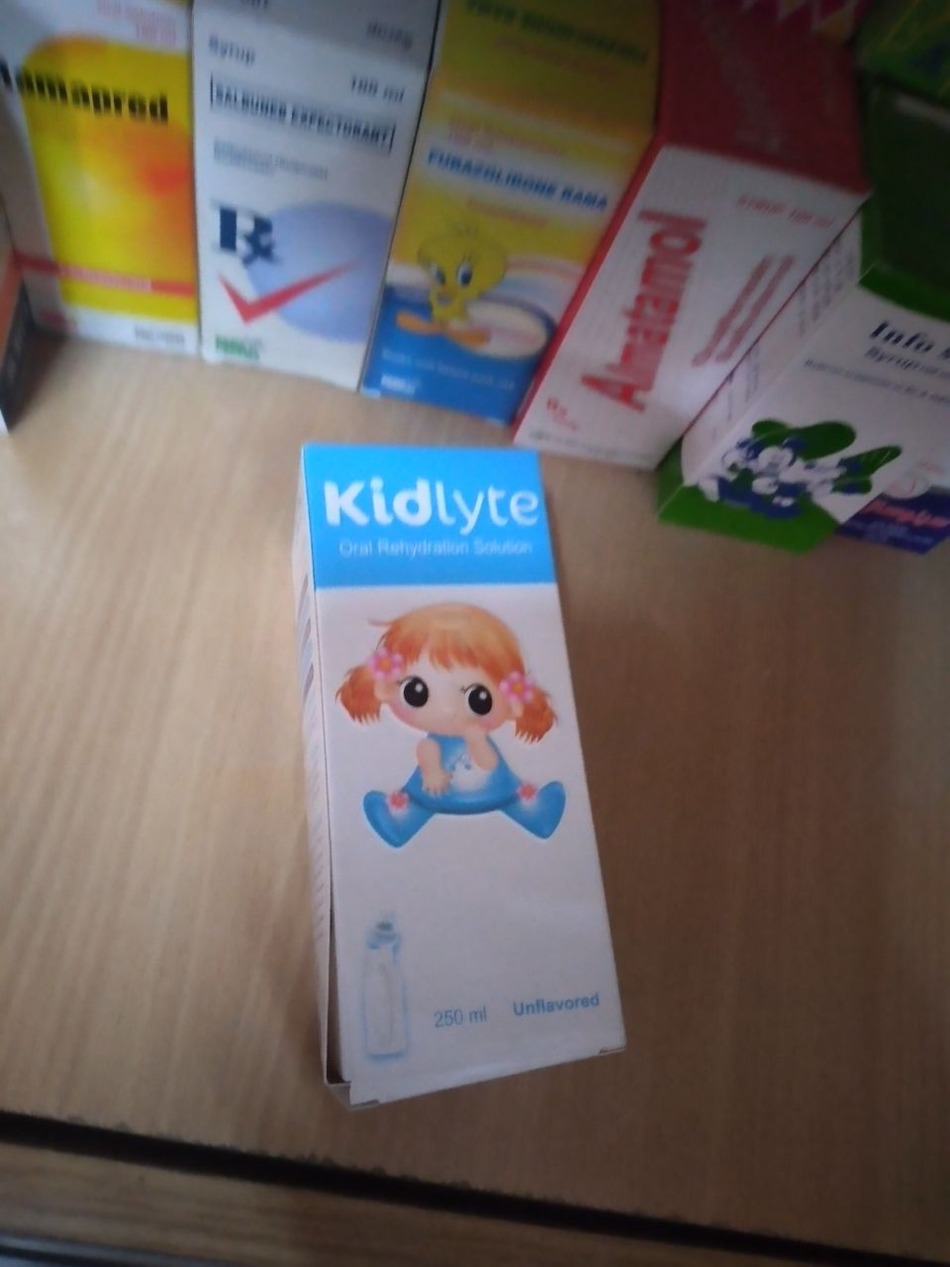Medicine: (280, 426, 637, 1152), (511, 30, 851, 465), (333, 16, 607, 455), (663, 195, 950, 581), (188, 0, 432, 403), (10, 0, 205, 399)
